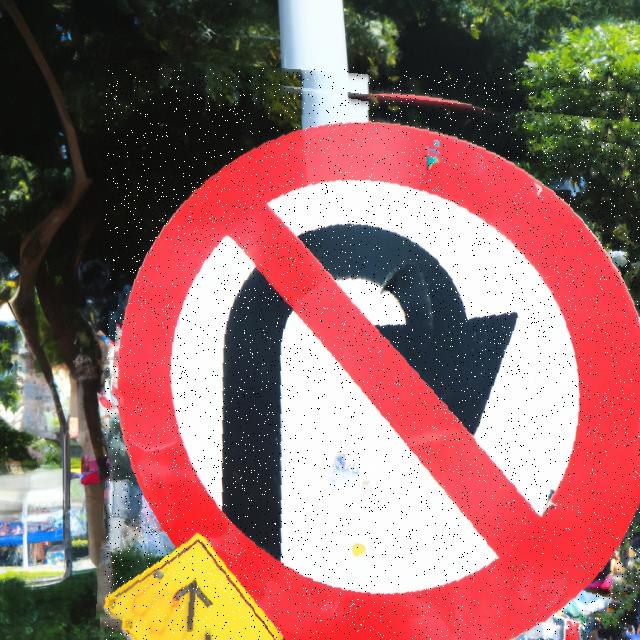no u turn: (105, 67, 640, 640)
